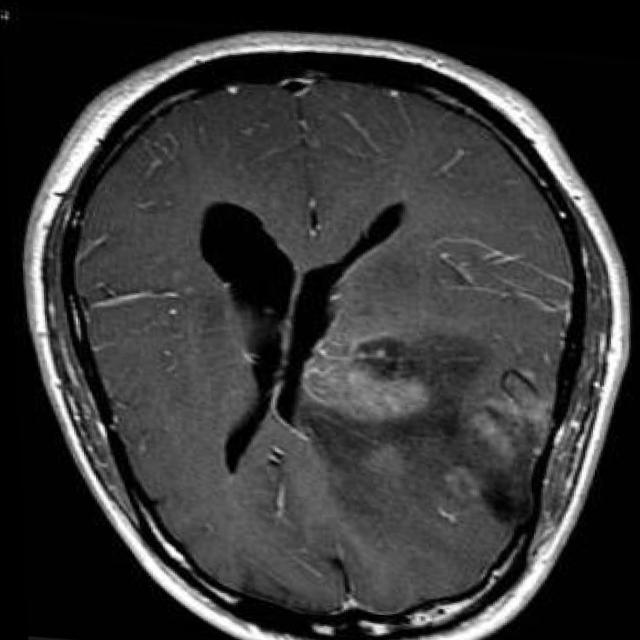Tumor: (294, 328, 553, 522)
